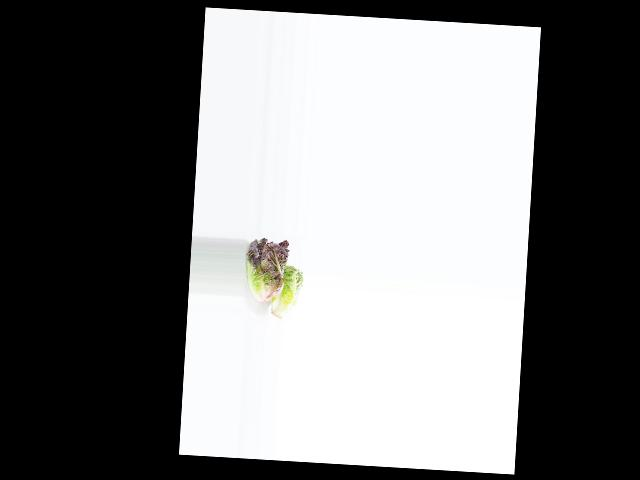lettuce: (268, 263, 304, 321)
